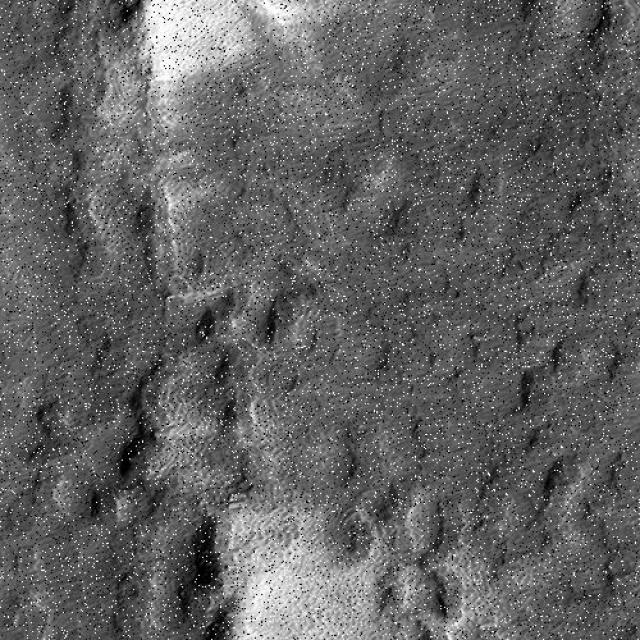crater: (571, 40, 640, 182), (577, 545, 640, 640)
